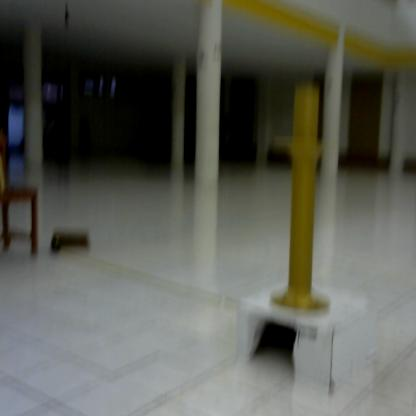pole: (270, 84, 338, 328)
